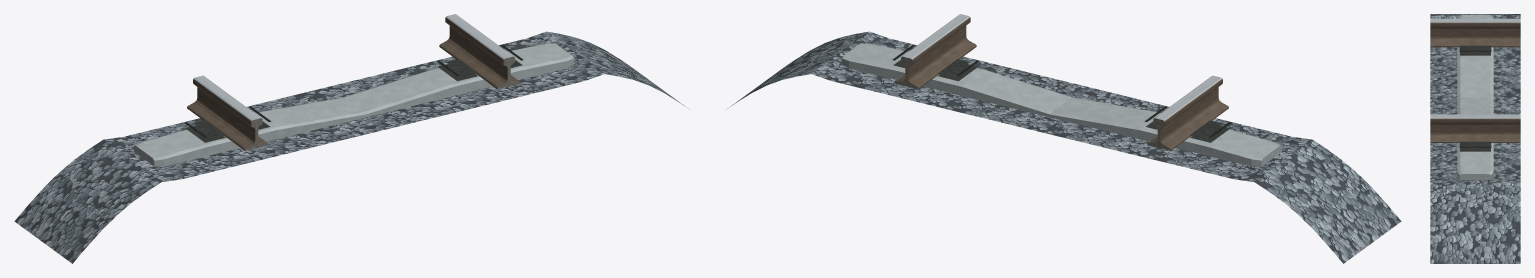
The model's file is rail_low.obj.
3 renders of one model, left to right at view 1: azimuth 30°, elevation 25°; view 2: azimuth 150°, elevation 25°; view 3: azimuth 270°, elevation 25°, orthographic. The views are drawn at different scales.
Parts seen in each view (by area): view 1: ballast, sleeper, rail_left, rail_right, fastener_left, fastener_right; view 2: ballast, sleeper, rail_left, rail_right, fastener_left, fastener_right; view 3: ballast, sleeper, rail_left, rail_right, fastener_left, fastener_right.
Part boxes in pixels (bbox=[...]): ballast: bbox=[14, 31, 688, 263]; sleeper: bbox=[134, 43, 573, 166]; rail_left: bbox=[187, 75, 266, 150]; rail_right: bbox=[439, 14, 519, 88]; fastener_left: bbox=[184, 106, 271, 142]; fastener_right: bbox=[436, 45, 523, 81]; ballast: bbox=[727, 31, 1401, 263]; sleeper: bbox=[842, 43, 1281, 166]; rail_left: bbox=[1149, 75, 1228, 150]; rail_right: bbox=[896, 14, 976, 88]; fastener_left: bbox=[1144, 106, 1231, 142]; fastener_right: bbox=[892, 45, 979, 81]; ballast: bbox=[1430, 14, 1520, 263]; sleeper: bbox=[1457, 14, 1493, 179]; rail_left: bbox=[1430, 18, 1520, 47]; rail_right: bbox=[1430, 114, 1520, 142]; fastener_left: bbox=[1459, 45, 1491, 55]; fastener_right: bbox=[1459, 141, 1491, 151].
Size of the model in its own units: 3.7 by 0.5683 by 0.6.
Materials: 1 (1 with a texture image).
